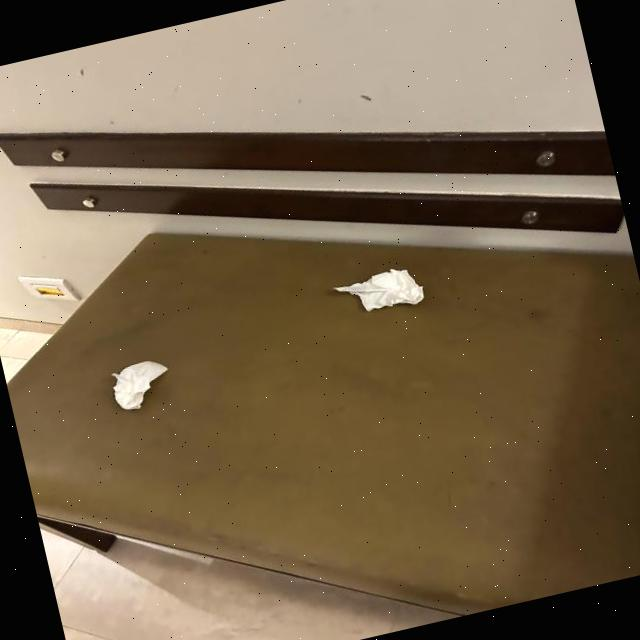mess: (328, 262, 427, 324), (108, 351, 178, 418)
